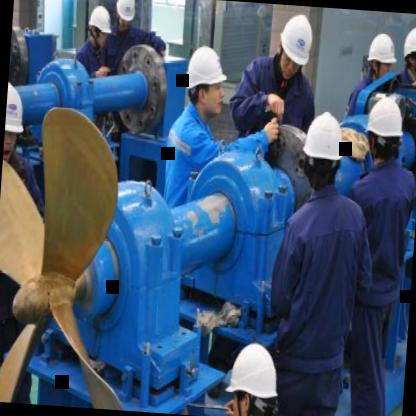helmet: (220, 328, 285, 416), (182, 40, 230, 121), (299, 110, 347, 188), (274, 9, 316, 84), (363, 96, 407, 162), (3, 78, 29, 164), (364, 29, 398, 82), (88, 3, 113, 51), (400, 22, 416, 78), (113, 0, 138, 29)
